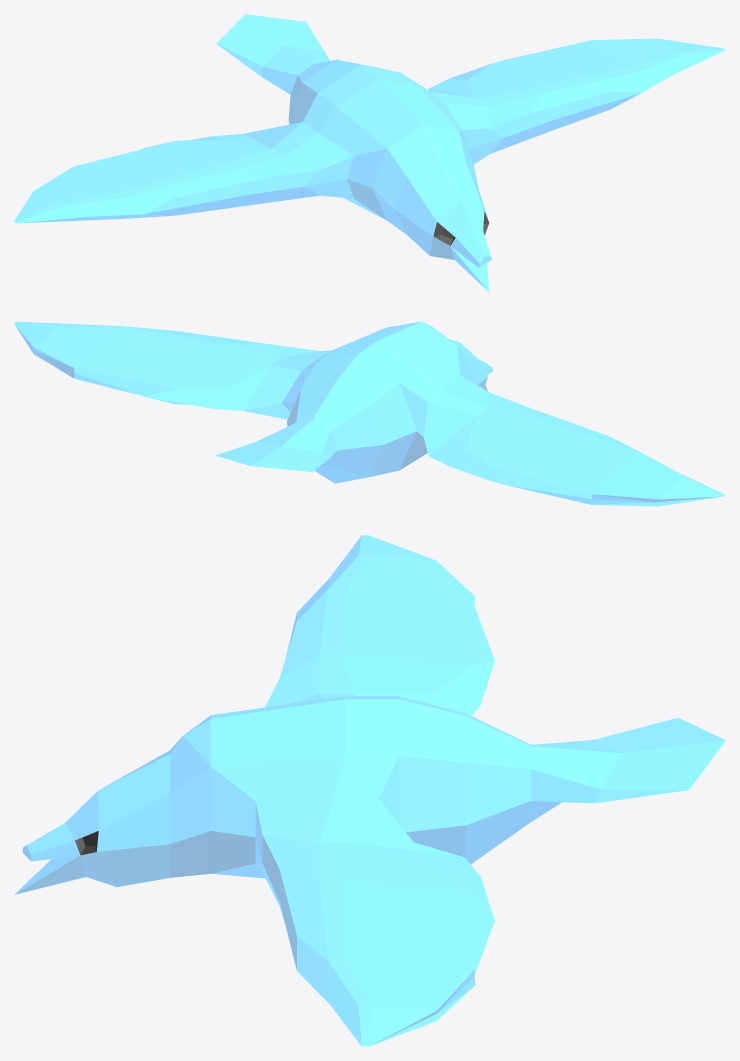
The model's file is ice_bird_full.glb.
The picture shows the model from 3 angles, top to bottom: view 1: azimuth 30°, elevation 25°; view 2: azimuth 150°, elevation 25°; view 3: azimuth 270°, elevation 25°; orthographic projection. The views are drawn at different scales.
Parts seen in each view (by area): view 1: IceBird Full; view 2: IceBird Full; view 3: IceBird Full.
Boxes of the visible parts, x1,y1,x2,y2 form: IceBird Full: (14, 14, 725, 292); IceBird Full: (14, 321, 725, 506); IceBird Full: (14, 535, 725, 1046).
Size of the model in its own units: 12.02 by 2.14 by 7.07.
